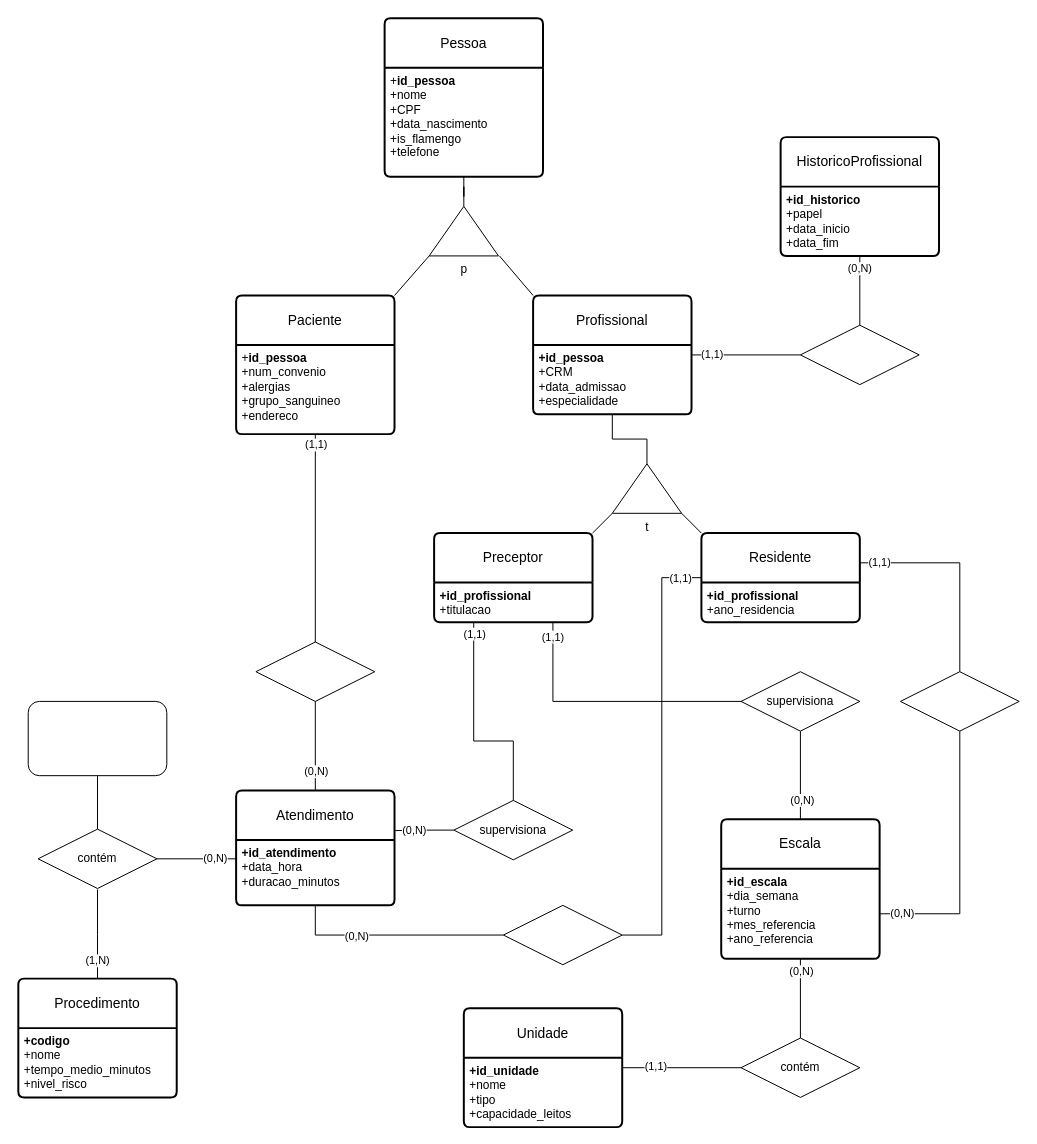
Image size: 1037x1144. Some labels were removed from this diagram. The shapes that lost their labels are listed below. From the top down, each one's centre as x and y in pixels, then its label:
At point 859,354: "possui".
At point 315,671: "recebe".
At point 959,701: "participa".
At point 97,738: "+quantidade +tempo_real_minutos +observacao +is_faturado".
At point 562,934: "realiza".
